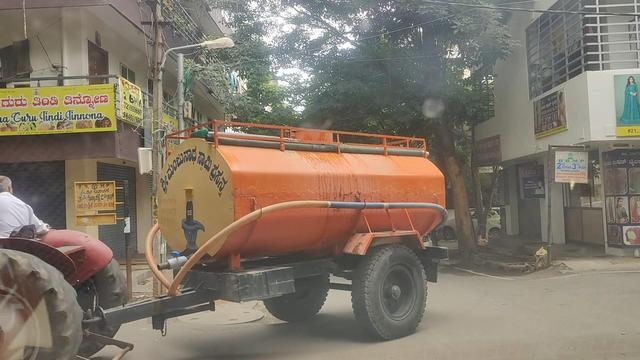HMV: (0, 77, 476, 360)
